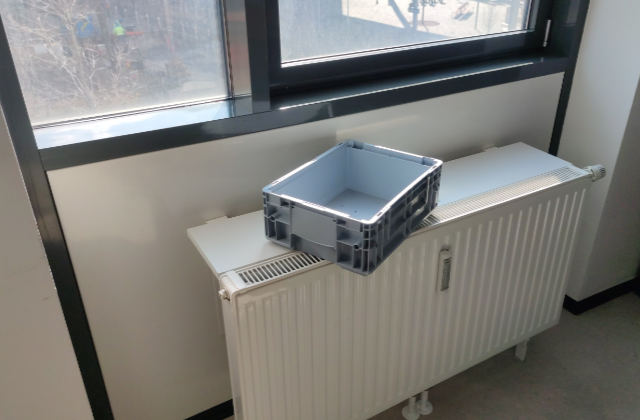Box: (261, 136, 445, 278)
